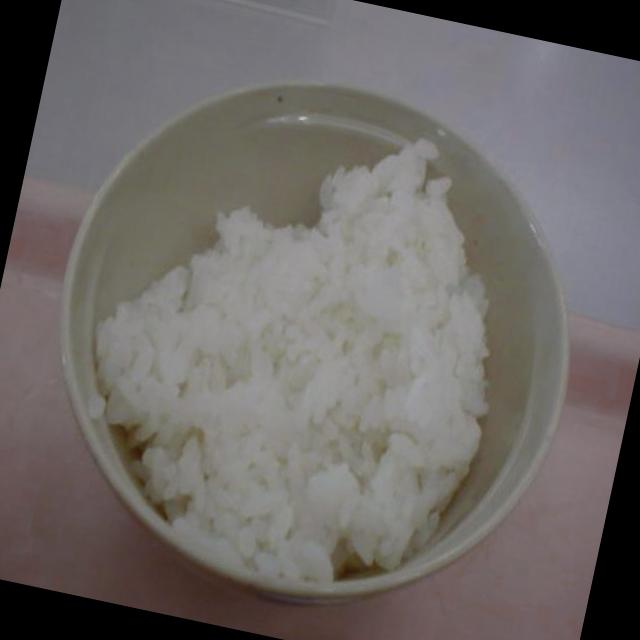Rice: (74, 80, 548, 580)
